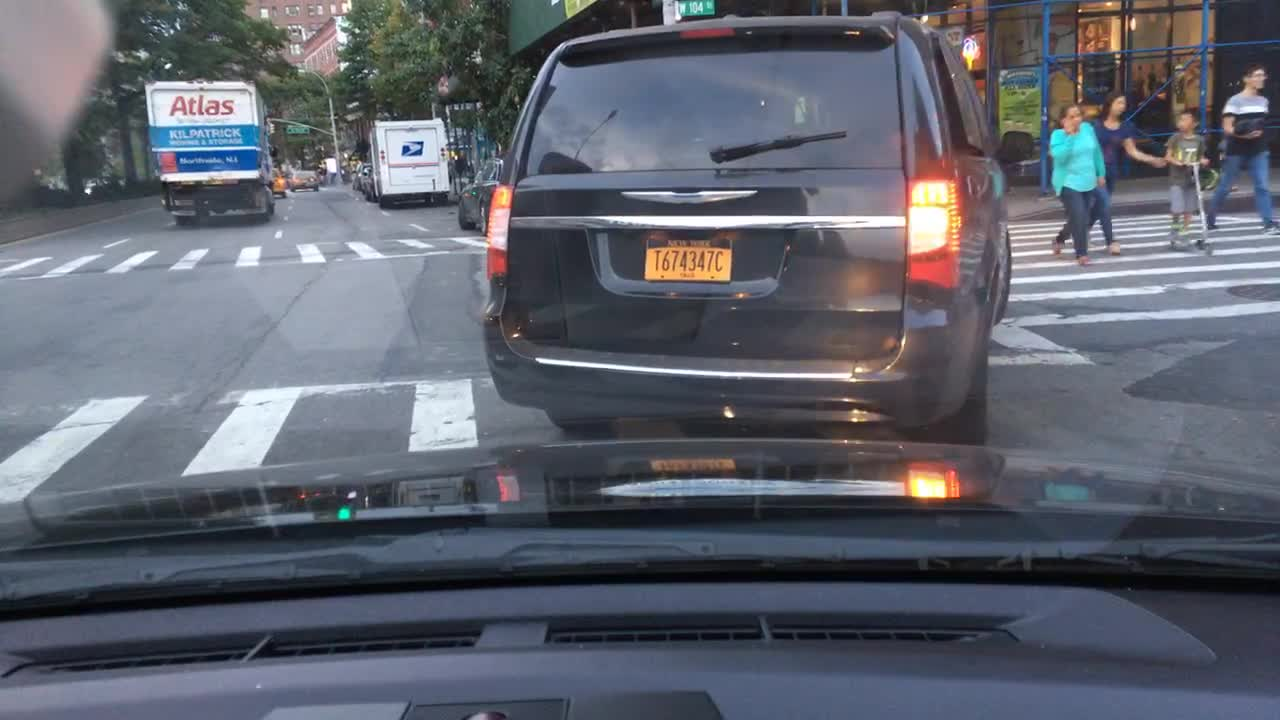car: (481, 12, 1014, 442), (458, 155, 506, 233), (289, 169, 320, 190), (266, 166, 288, 193), (352, 163, 368, 189)
person: (1200, 60, 1280, 233), (1080, 91, 1164, 253), (1042, 104, 1108, 263)
rider: (1163, 107, 1209, 236)
traffic light: (268, 121, 274, 136)
traffic sign: (678, 0, 716, 17), (288, 124, 309, 135)
truck: (140, 77, 278, 221), (364, 115, 450, 206)
